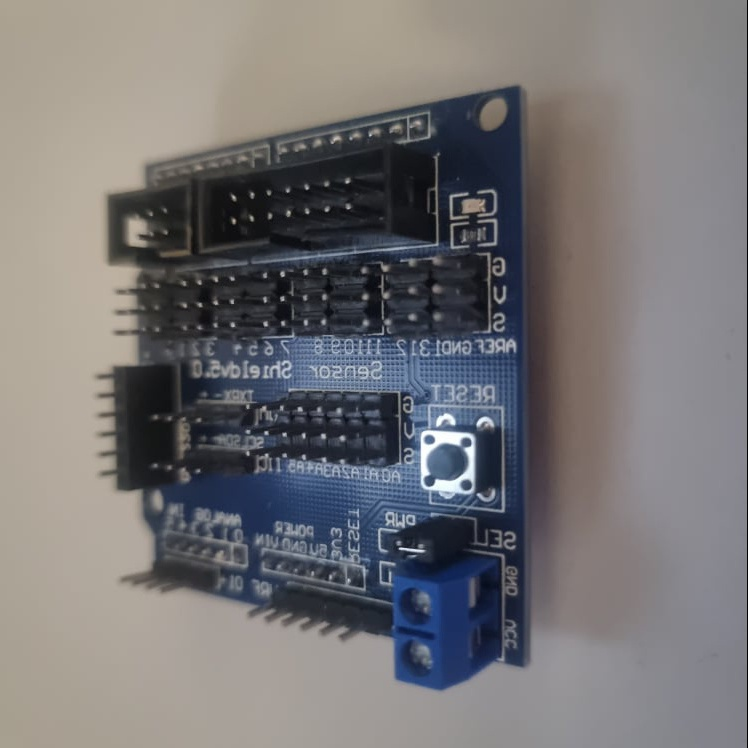5V EXPANSION: (99, 81, 537, 691)
